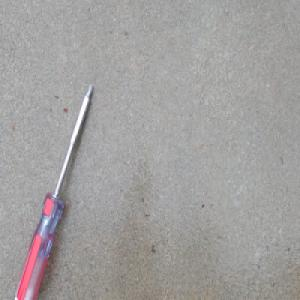Screwdriver: (13, 80, 94, 300)
